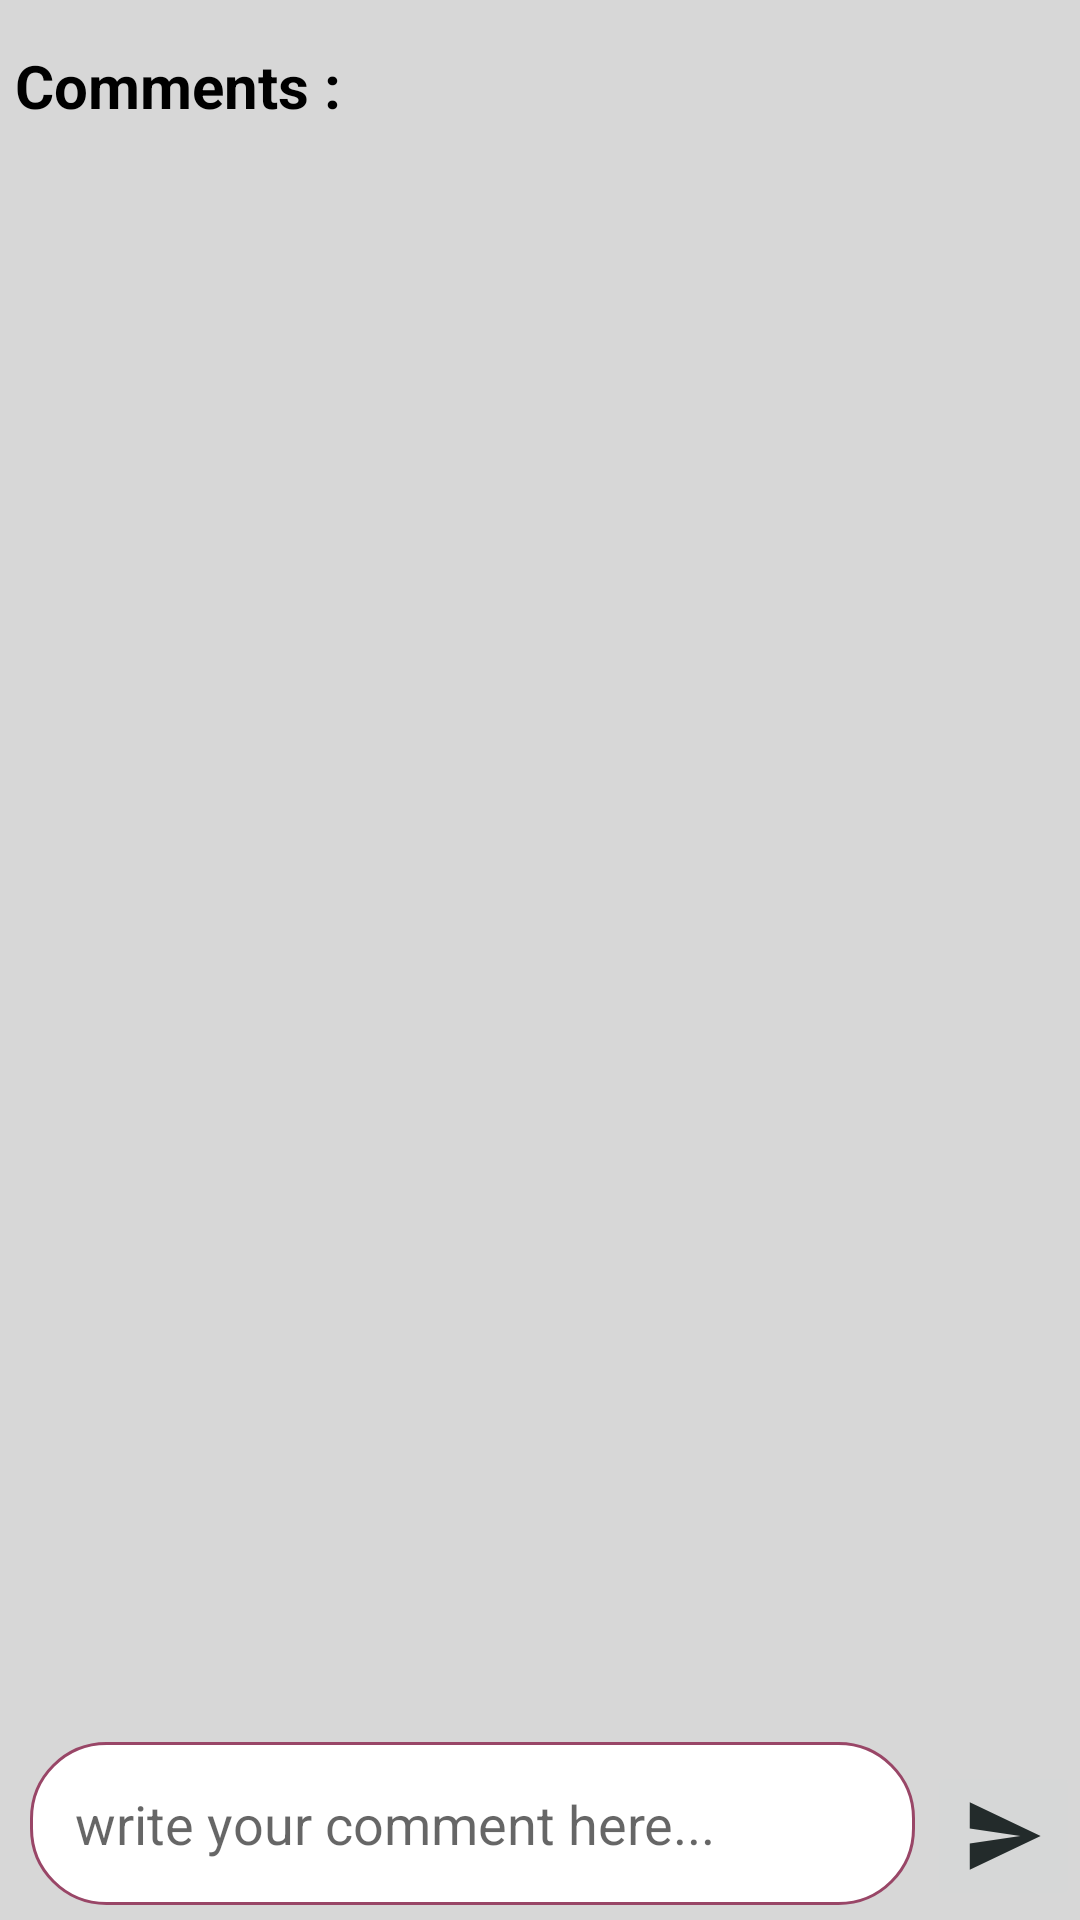

Icon click points for this 1080×1920 phone screenshot, format [x,y]:
send: [1004,1836]
